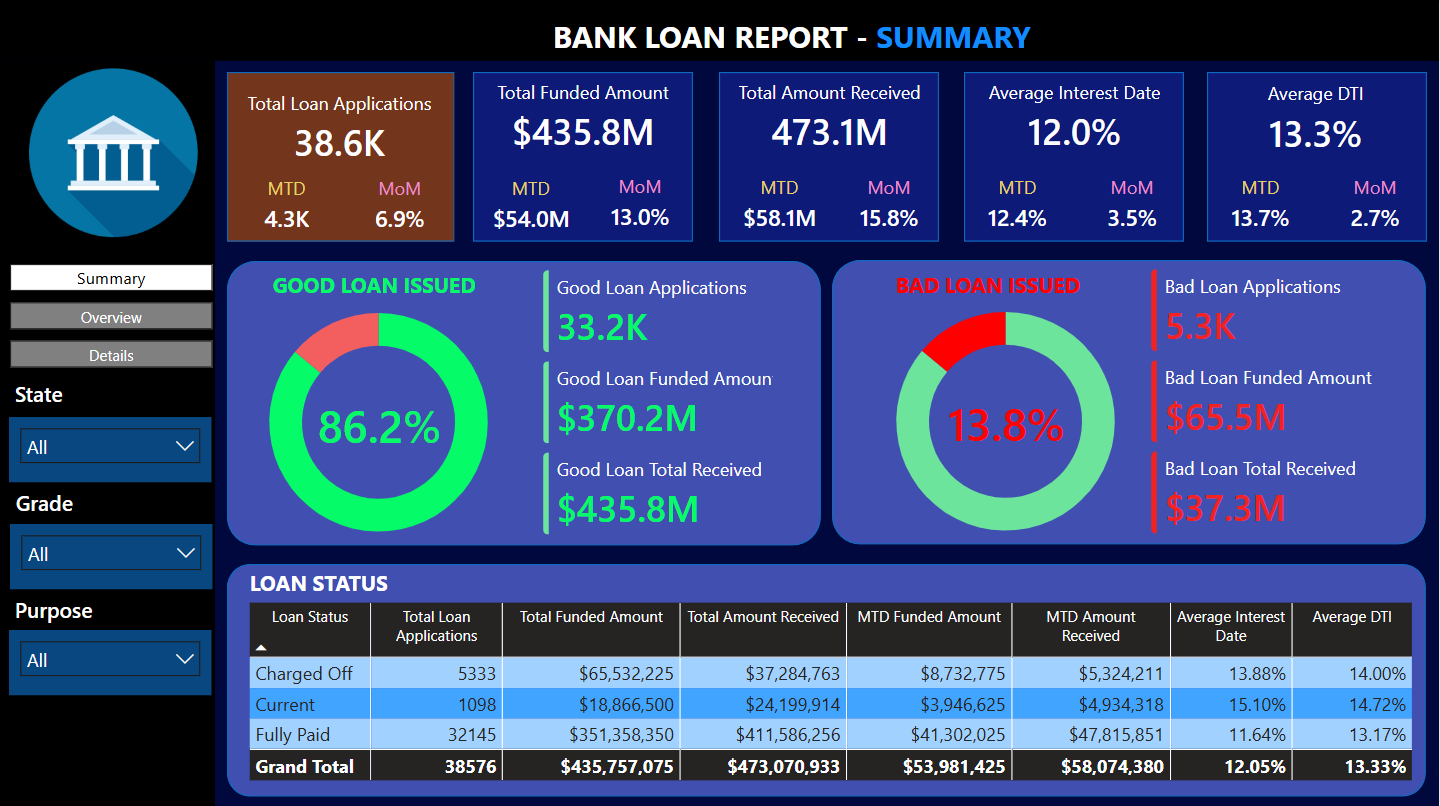

The page's visual inventory and layout, read from the dashboard file:
{"tool":"powerbi","page":{"name":"Summary","canvas":[1280,720],"ordinal":0},"visuals":[{"type":"cardVisual","fields":{"Data":["financial_loan.MTD Average Interest Date"]},"box":[846.7,140.9,116.6,82.1],"z":0,"group":"g7"},{"type":"cardVisual","fields":{"Data":["financial_loan.MTD Average DTI"]},"box":[1063.4,140.9,116.6,82.1],"z":0,"group":"g8"},{"type":"cardVisual","fields":{"Data":["financial_loan.MTD Loan Applications"]},"box":[202.3,141,106,82.7],"z":0,"group":"g4"},{"type":"cardVisual","fields":{"Data":["financial_loan.MTD Amount Received"]},"box":[631,141.1,125.4,82.5],"z":0,"group":"g6"},{"type":"cardVisual","fields":{"Data":["financial_loan.MTD Funded Amount"]},"box":[410,141.2,126.5,81.4],"z":0,"group":"g5"},{"type":"donutChart","fields":{"Category":["financial_loan.Good vs Bad Loan"],"Y":["financial_loan.Total Loan Applications"]},"box":[202.3,249.6,269.4,252.9],"z":0,"group":"g9"},{"type":"group","id":"g1","title":"Group 3","box":[8.5,333.7,180.3,96.8],"z":0,"group":"g10"},{"type":"slicer","fields":{"Values":["financial_loan.address_state"]},"box":[8.5,372.2,180.3,58.3],"z":0,"group":"g1"},{"type":"slicer","fields":{"Values":["financial_loan.grade"]},"box":[9.6,466.8,180.3,58.3],"z":0,"group":"g2"},{"type":"shape","box":[202.3,502.5,1065.6,206.7],"z":0},{"type":"slicer","fields":{"Values":["financial_loan.purpose"]},"box":[8.6,561.4,180.3,58.3],"z":0,"group":"g3"},{"type":"cardVisual","fields":{"Data":["financial_loan.MoM Funded Amount"]},"box":[515.1,139.7,110.6,82.3],"z":1000,"group":"g5"},{"type":"cardVisual","fields":{"Data":["financial_loan.MoM Amount Received"]},"box":[736.2,140.8,110.6,82.3],"z":1000,"group":"g6"},{"type":"cardVisual","fields":{"Data":["financial_loan.MoM Average Interest Date"]},"box":[950.7,140.8,112.2,82.5],"z":1000,"group":"g7"},{"type":"cardVisual","fields":{"Data":["financial_loan.MoM Average DTI"]},"box":[1167.4,140.8,112.2,82.5],"z":1000,"group":"g8"},{"type":"cardVisual","fields":{"Data":["financial_loan.MoM Loan Applications"]},"box":[298.6,141,115.7,82.7],"z":1000,"group":"g4"},{"type":"shape","box":[740.2,232.1,527.8,252.9],"z":1000},{"type":"cardVisual","fields":{"Data":["financial_loan.Good Loan Percentage"]},"box":[237.5,276,200.1,200.1],"z":1000,"group":"g9"},{"type":"textbox","box":[8.5,333.7,115.5,38.5],"z":1000,"group":"g1"},{"type":"group","id":"g2","title":"Group 4","box":[9.6,430.5,180.3,94.6],"z":1000,"group":"g10"},{"type":"textbox","box":[9.6,430.5,115.5,39.6],"z":1000,"group":"g2"},{"type":"textbox","box":[8.5,526.1,115.5,38.5],"z":1000,"group":"g3"},{"type":"shape","box":[202.3,233.1,527.8,252.9],"z":2000},{"type":"group","id":"g3","title":"Group 5","box":[8.5,526.1,180.3,93.5],"z":2000,"group":"g10"},{"type":"donutChart","fields":{"Category":["financial_loan.Good vs Bad Loan"],"Y":["financial_loan.Total Loan Applications"]},"box":[760.3,248.5,269.4,252.9],"z":3000},{"type":"shape","box":[0,0,1280,55],"z":4000},{"type":"cardVisual","fields":{"Data":["financial_loan.Bad Loan Percentage"]},"box":[795.5,274.9,200.1,200.1],"z":5000},{"type":"shape","box":[0,55.1,192,664.9],"z":6000},{"type":"textbox","box":[487.1,9.9,442.1,55],"z":7000},{"type":"shape","box":[1073.8,65.2,195.5,150.8],"z":8000},{"type":"shape","box":[202.3,65.2,202.3,150.8],"z":9000},{"type":"shape","box":[857.9,65.2,195.5,150.8],"z":10000},{"type":"shape","box":[640,65.2,195.5,150.8],"z":11000},{"type":"shape","box":[421.2,65.2,195.5,150.8],"z":12000},{"type":"cardVisual","fields":{"Data":["financial_loan.Total Loan Applications"]},"box":[191.1,64.9,223.1,99.6],"z":13000},{"type":"cardVisual","fields":{"Data":["Sum(financial_loan.loan_amount)"]},"box":[406.9,55,224.3,100.1],"z":14000},{"type":"cardVisual","fields":{"Data":["financial_loan.Total Amount Received"]},"box":[625.7,55,225.4,100.1],"z":15000},{"type":"cardVisual","fields":{"Data":["financial_loan.Average Interest Date"]},"box":[843.4,55,225.4,100.1],"z":16000},{"type":"cardVisual","fields":{"Data":["financial_loan.Average DTI"]},"box":[1073.3,55,195.7,101.2],"z":17000},{"type":"group","id":"g4","title":"Group 1","box":[202.3,141,212,82.7],"z":18000},{"type":"group","id":"g5","title":"Group 1","box":[410,139.7,215.7,82.9],"z":19000},{"type":"group","id":"g6","title":"Group 1","box":[631,140.8,215.8,82.7],"z":20000},{"type":"group","id":"g7","title":"Group 1","box":[846.7,140.8,216.6,82.5],"z":21000},{"type":"group","id":"g8","title":"Group 1","box":[1063.4,140.8,216.2,82.5],"z":22000},{"type":"group","id":"g9","title":"Group 2","box":[202.3,249.6,269.4,252.9],"z":23000},{"type":"textbox","box":[238.6,236.4,202.3,39.6],"z":24000},{"type":"cardVisual","fields":{"Data":["financial_loan.Good Loan Applications","financial_loan.Good Loan Funded Amount","financial_loan.Good Loan Total Received"]},"box":[466.3,224.3,250.7,270.5],"z":25000},{"type":"textbox","box":[791.8,236.4,183.6,39.6],"z":26000},{"type":"cardVisual","fields":{"Data":["financial_loan.Bad Loan Applications","financial_loan.Bad Loan Funded Amount","financial_loan.Bad Loan Total received"]},"box":[1007.3,223.2,250.7,270.5],"z":27000},{"type":"textbox","box":[217.5,501.3,139.3,37.8],"z":28000},{"type":"tableEx","fields":{"Values":["financial_loan.loan_status","financial_loan.Total Loan Applications","financial_loan.Total Funded Amount","financial_loan.Total Amount Received","financial_loan.MTD Funded Amount","financial_loan.MTD Amount Received","financial_loan.Average Interest Date","financial_loan.Average DTI"]},"box":[216.6,531.1,1050.2,189.1],"z":29000},{"type":"group","id":"g10","title":"Group 6","box":[8.5,333.7,181.4,285.9],"z":29010},{"type":"image","box":[26.7,50.7,150.2,171.6],"z":29011},{"type":"pageNavigator","box":[9.8,235.6,180.4,93.3],"z":29012}]}

Visuals, with their boxes in screenshot pixels (x1, y1, x2, y2), scaled from the page's 1280x720 canvas onto the 1440x806 screenshot:
cardVisual - financial_loan.MTD Average Interest Date: rect(953, 158, 1084, 250)
cardVisual - financial_loan.MTD Average DTI: rect(1196, 158, 1328, 250)
cardVisual - financial_loan.MTD Loan Applications: rect(228, 158, 347, 250)
cardVisual - financial_loan.MTD Amount Received: rect(710, 158, 851, 250)
cardVisual - financial_loan.MTD Funded Amount: rect(461, 158, 604, 249)
donutChart - financial_loan.Good vs Bad Loan x financial_loan.Total Loan Applications: rect(228, 279, 531, 563)
"Group 3" group: rect(10, 374, 212, 482)
slicer - financial_loan.address_state: rect(10, 417, 212, 482)
slicer - financial_loan.grade: rect(11, 523, 214, 588)
shape: rect(228, 563, 1426, 794)
slicer - financial_loan.purpose: rect(10, 628, 213, 694)
cardVisual - financial_loan.MoM Funded Amount: rect(579, 156, 704, 249)
cardVisual - financial_loan.MoM Amount Received: rect(828, 158, 953, 250)
cardVisual - financial_loan.MoM Average Interest Date: rect(1070, 158, 1196, 250)
cardVisual - financial_loan.MoM Average DTI: rect(1313, 158, 1439, 250)
cardVisual - financial_loan.MoM Loan Applications: rect(336, 158, 466, 250)
shape: rect(833, 260, 1426, 543)
cardVisual - financial_loan.Good Loan Percentage: rect(267, 309, 492, 533)
textbox: rect(10, 374, 140, 417)
"Group 4" group: rect(11, 482, 214, 588)
textbox: rect(11, 482, 141, 526)
textbox: rect(10, 589, 140, 632)
shape: rect(228, 261, 821, 544)
"Group 5" group: rect(10, 589, 212, 694)
donutChart - financial_loan.Good vs Bad Loan x financial_loan.Total Loan Applications: rect(855, 278, 1158, 561)
shape: rect(0, 0, 1439, 62)
cardVisual - financial_loan.Bad Loan Percentage: rect(895, 308, 1120, 532)
shape: rect(0, 62, 216, 805)
textbox: rect(548, 11, 1045, 73)
shape: rect(1208, 73, 1428, 242)
shape: rect(228, 73, 455, 242)
shape: rect(965, 73, 1185, 242)
shape: rect(720, 73, 940, 242)
shape: rect(474, 73, 694, 242)
cardVisual - financial_loan.Total Loan Applications: rect(215, 73, 466, 184)
cardVisual - Sum(financial_loan.loan_amount): rect(458, 62, 710, 174)
cardVisual - financial_loan.Total Amount Received: rect(704, 62, 957, 174)
cardVisual - financial_loan.Average Interest Date: rect(949, 62, 1202, 174)
cardVisual - financial_loan.Average DTI: rect(1207, 62, 1428, 175)
"Group 1" group: rect(228, 158, 466, 250)
"Group 1" group: rect(461, 156, 704, 249)
"Group 1" group: rect(710, 158, 953, 250)
"Group 1" group: rect(953, 158, 1196, 250)
"Group 1" group: rect(1196, 158, 1439, 250)
"Group 2" group: rect(228, 279, 531, 563)
textbox: rect(268, 265, 496, 309)
cardVisual - financial_loan.Good Loan Applications x financial_loan.Good Loan Funded Amount: rect(525, 251, 807, 554)
textbox: rect(891, 265, 1097, 309)
cardVisual - financial_loan.Bad Loan Applications x financial_loan.Bad Loan Funded Amount: rect(1133, 250, 1415, 553)
textbox: rect(245, 561, 401, 603)
tableEx - financial_loan.loan_status x financial_loan.Total Loan Applications: rect(244, 595, 1425, 805)
"Group 6" group: rect(10, 374, 214, 694)
image: rect(30, 57, 199, 249)
pageNavigator: rect(11, 264, 214, 368)
